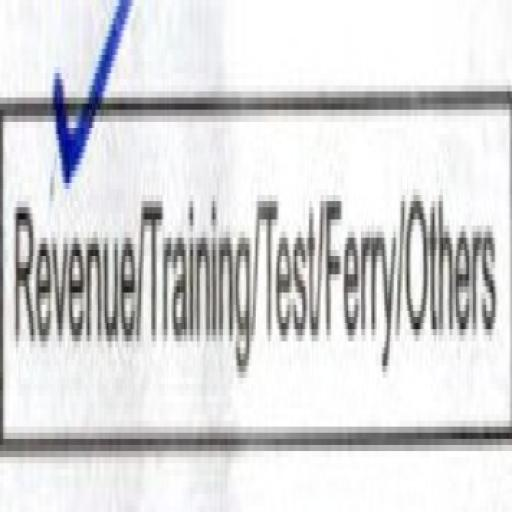check: (1, 0, 142, 499)
